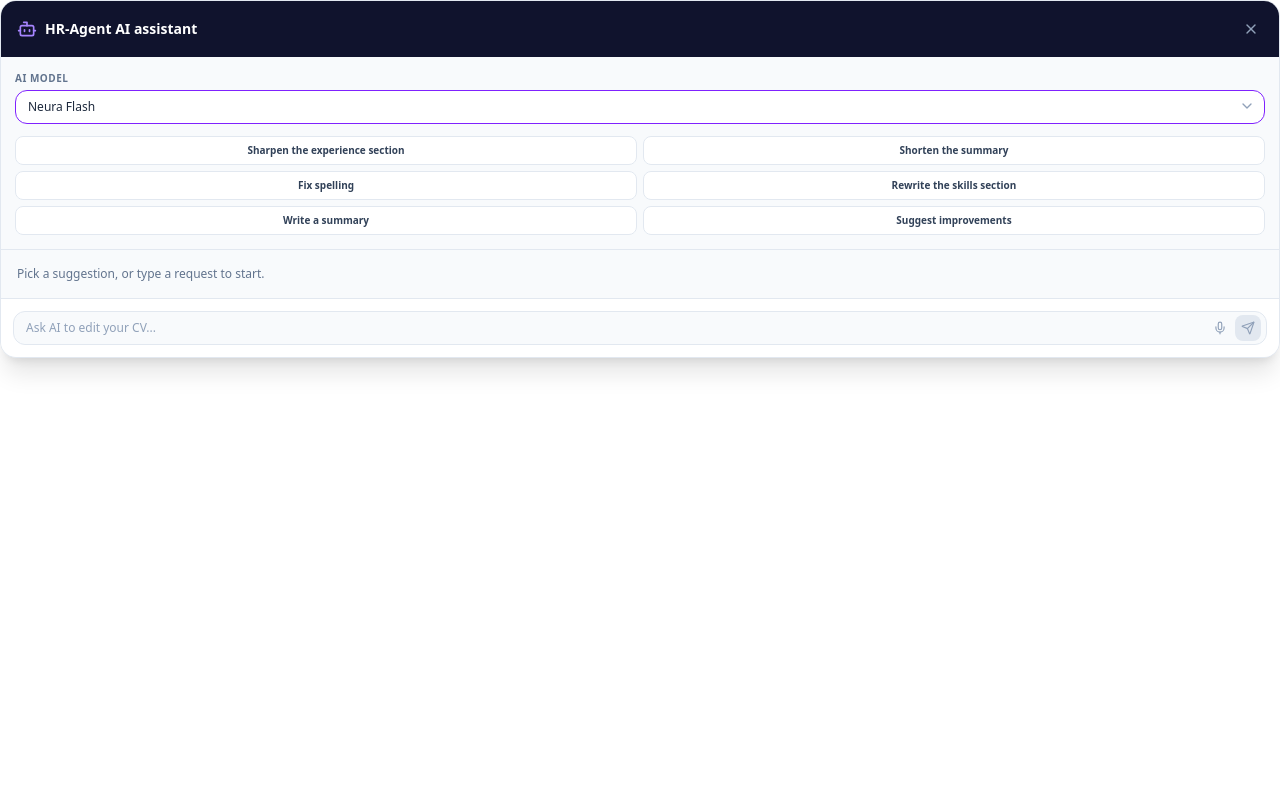
trợ lý AI ở trạng thái có đề xuất › khung đề xuất không còn tiếng Việt
Click the button "Write a summary": x=326, y=220 top-left (15, 206), bottom-right (637, 235)
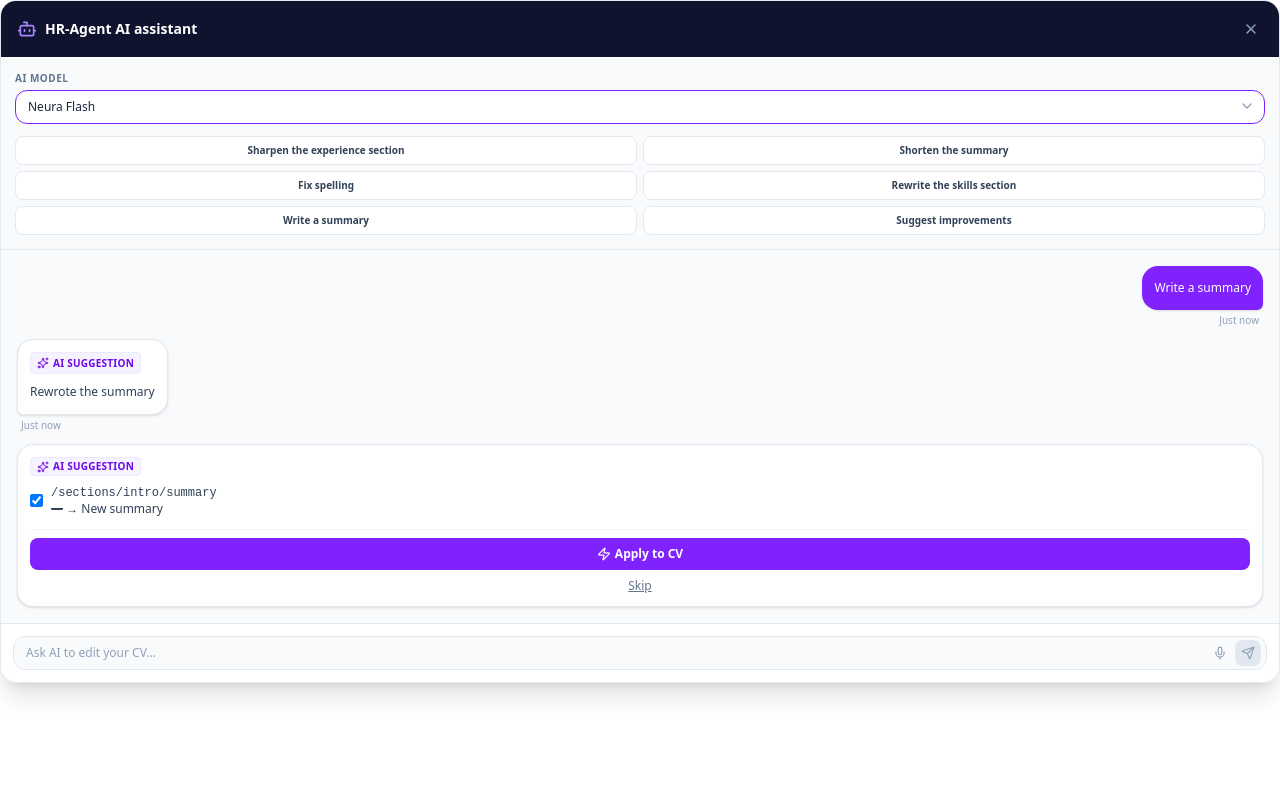
Expected: the button "Apply to CV" is shown, top-left (30, 538), bottom-right (1250, 570)
